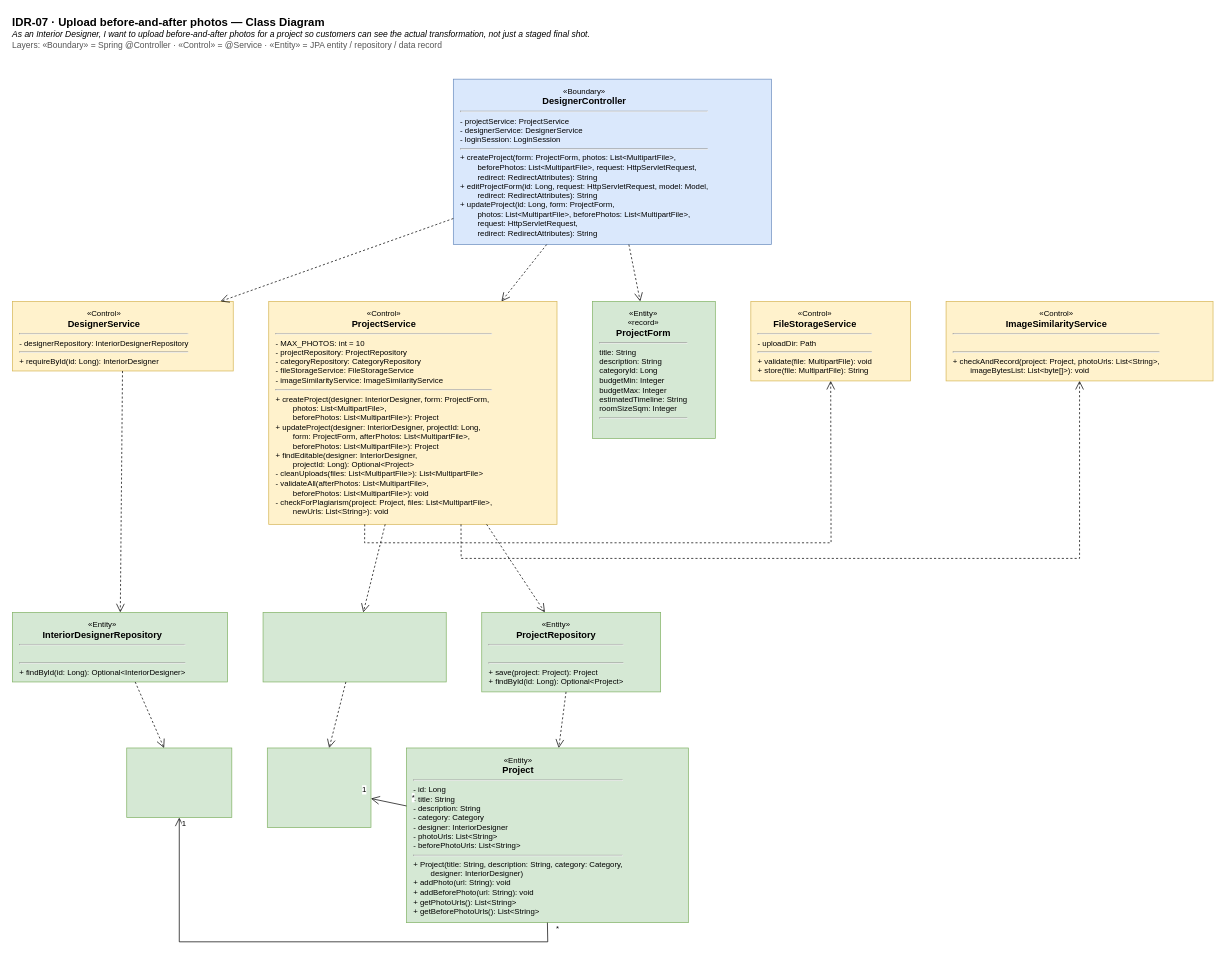
Some shapes in this 1225 by 963 pixel diagram are drawn without their labels. Each missing label, with the centre of its shape:
"«Entity» Category - name: String - active: boolean + isActive(): boolean" belongs at pixel 319 787.
"«Entity» CategoryRepository + findById(id: Long): Optional<Category>" belongs at pixel 354 647.
"«Entity» InteriorDesigner - company: Company + getId(): Long" belongs at pixel 179 782.
